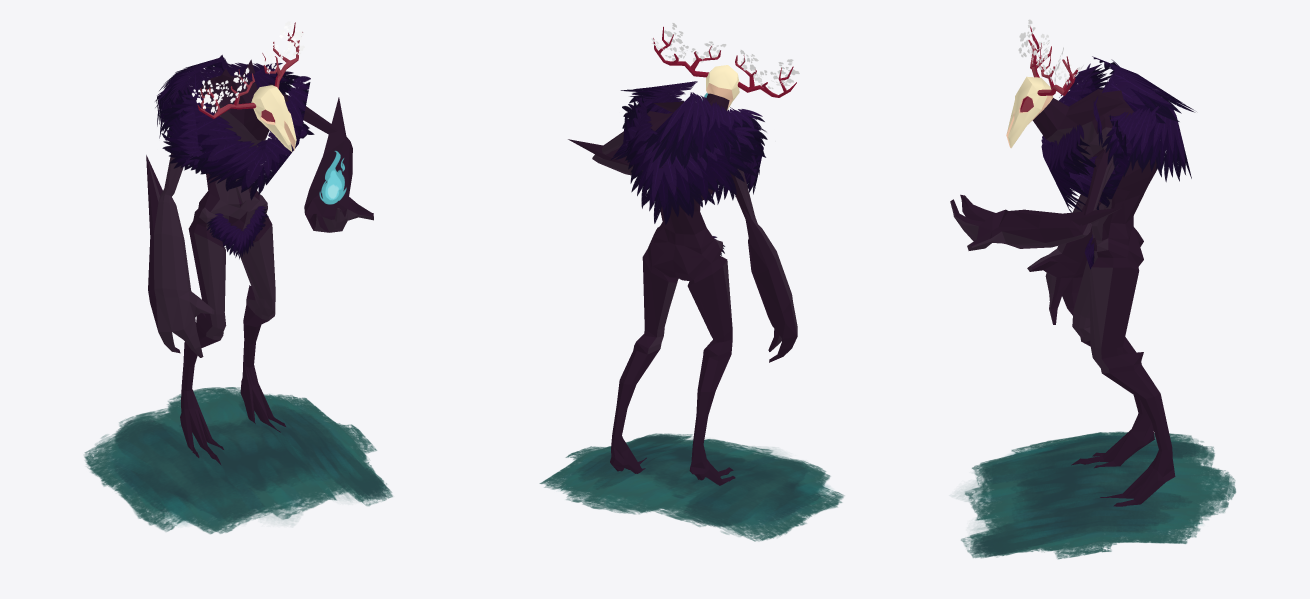
3 views of the same model, side by side, from view 1: azimuth 30°, elevation 25°; view 2: azimuth 150°, elevation 25°; view 3: azimuth 270°, elevation 25° (orthographic). The views are drawn at different scales.
Parts seen in each view (by area): view 1: 3DSMeshMatrix (×3); view 2: 3DSMeshMatrix (×2); view 3: 3DSMeshMatrix (×2).
Part boxes in pixels (bbox=[...]): 3DSMeshMatrix (×3): bbox=[84, 21, 392, 534]; 3DSMeshMatrix (×2): bbox=[539, 23, 844, 541]; 3DSMeshMatrix (×2): bbox=[950, 19, 1235, 559].
Size of what is drawn, in the model's own units: 981 by 1674 by 1078.
11 materials, 5 textured.
